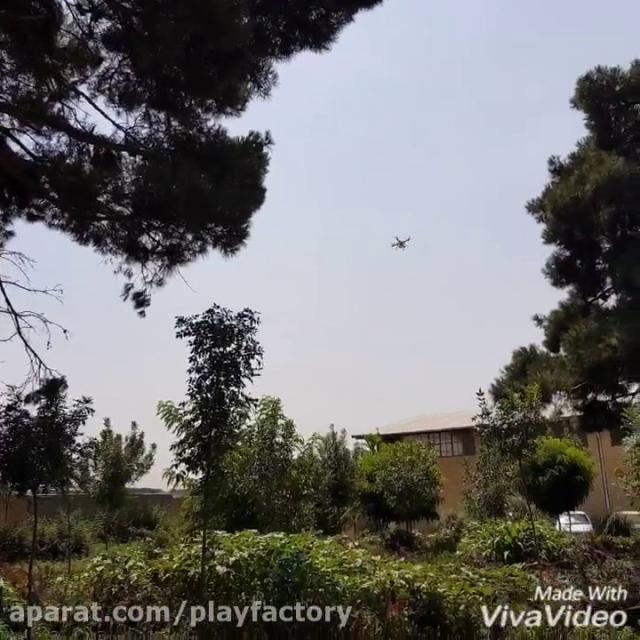drone: (386, 230, 413, 254)
